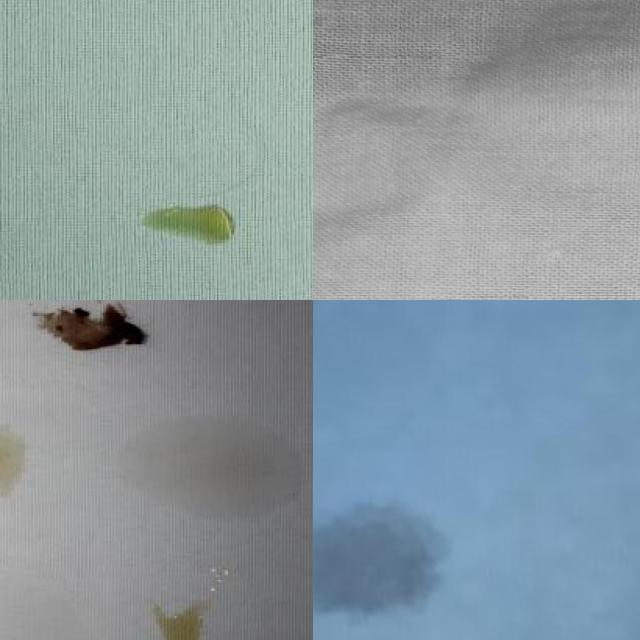Thread_other: (97, 377, 313, 559), (118, 166, 254, 276), (10, 300, 196, 367), (0, 387, 58, 557), (130, 579, 222, 640)
